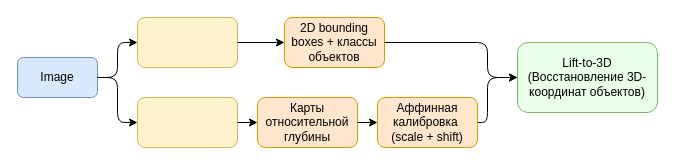
The diagram is 675 pixels wide and 165 high, and some of its shapes have lost their labels. Each missing label, with the centre of its shape:
Depth Anything v2: pixel 187 122
YOLOv8: pixel 187 42
